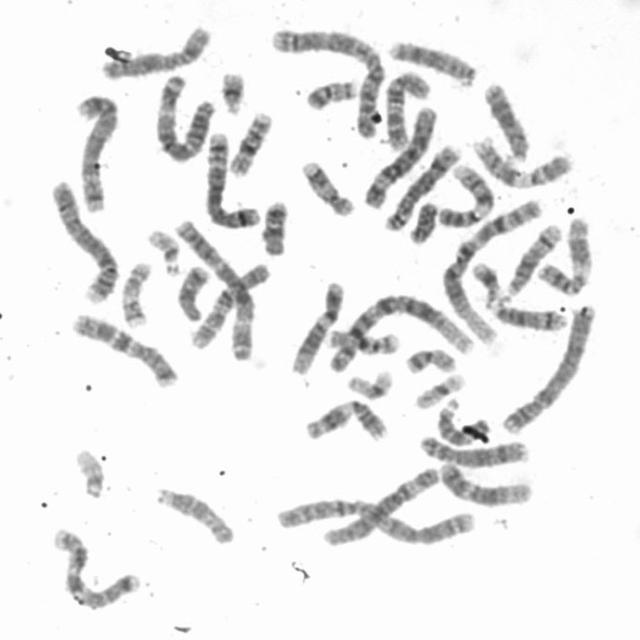A1: (439, 191, 547, 348), (323, 286, 483, 375)
A2: (267, 21, 389, 140), (272, 488, 480, 547)
A3: (170, 214, 260, 362), (151, 66, 220, 164)
B4: (498, 296, 602, 436), (45, 173, 124, 306)
B5: (200, 124, 264, 230), (72, 86, 125, 214)
C10: (184, 256, 275, 352), (379, 63, 436, 151)
C11: (533, 210, 597, 298), (300, 392, 393, 443)
C12: (288, 274, 348, 376), (435, 454, 538, 508)
C6: (318, 459, 444, 549), (359, 99, 441, 210)
C7: (67, 307, 183, 389), (47, 521, 145, 612)
C8: (379, 136, 465, 232), (415, 427, 534, 468)
C9: (467, 129, 577, 191), (433, 155, 499, 229)
D13: (385, 32, 481, 87), (478, 75, 535, 163)
D14: (502, 215, 566, 298), (485, 290, 571, 332)
D15: (150, 479, 240, 546), (433, 392, 495, 447)
E16: (225, 104, 277, 178), (321, 321, 405, 356)
E17: (296, 153, 359, 218), (116, 254, 155, 329)
E18: (174, 259, 214, 323), (258, 193, 294, 257)
F19: (411, 366, 470, 410), (342, 362, 397, 401)
F20: (302, 72, 361, 112), (400, 340, 462, 374)
G21: (466, 254, 506, 304), (215, 64, 250, 115)
G22: (142, 221, 186, 277), (70, 440, 108, 500)
X: (96, 18, 215, 80)
Y: (404, 194, 442, 244)
